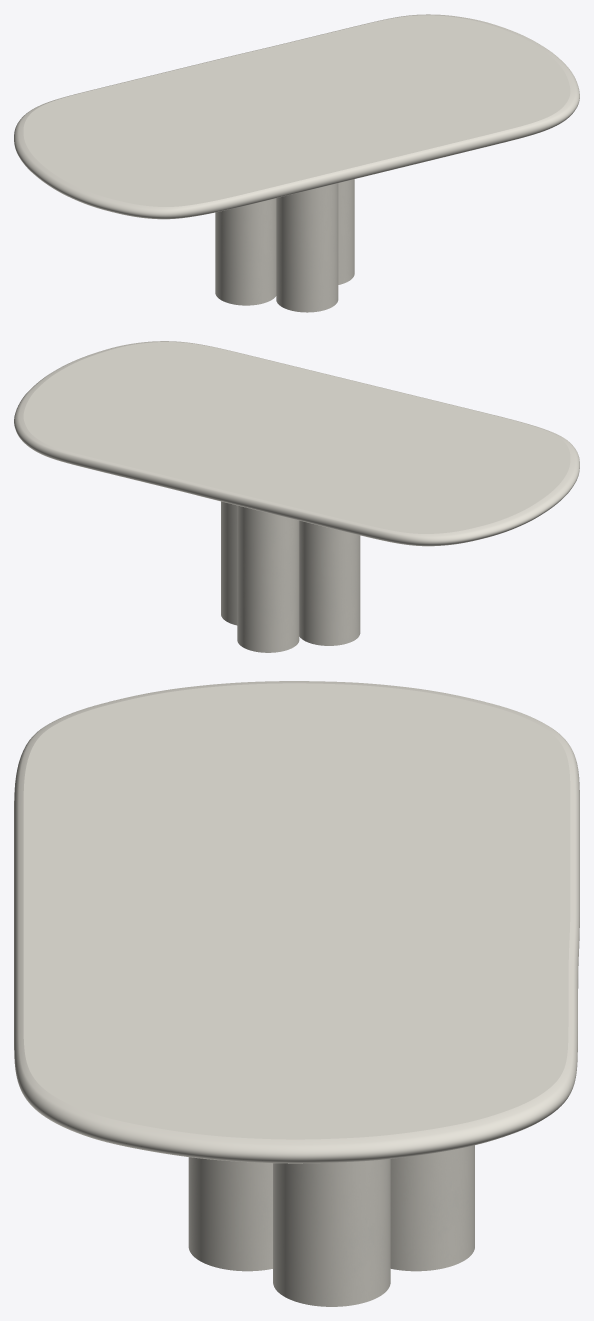
The model's file is pale_oval_round_secondtable.glb.
The picture shows the model from 3 angles, top to bottom: view 1: azimuth 30°, elevation 25°; view 2: azimuth 150°, elevation 25°; view 3: azimuth 270°, elevation 25°; orthographic projection. The views are drawn at different scales.
Visible parts, largest first — view 1: round_oval, secondtable; view 2: round_oval, secondtable; view 3: round_oval, secondtable.
Boxes of the visible parts, x1,y1,x2,y2 form: round_oval: (14, 14, 579, 219); secondtable: (215, 179, 354, 312); round_oval: (14, 341, 579, 546); secondtable: (221, 501, 360, 652); round_oval: (14, 681, 579, 1163); secondtable: (188, 1145, 474, 1306).
Bounding box in the file's own units: 7.5 × 2.5 × 3.8.
Materials: 1 (1 with a texture image).
